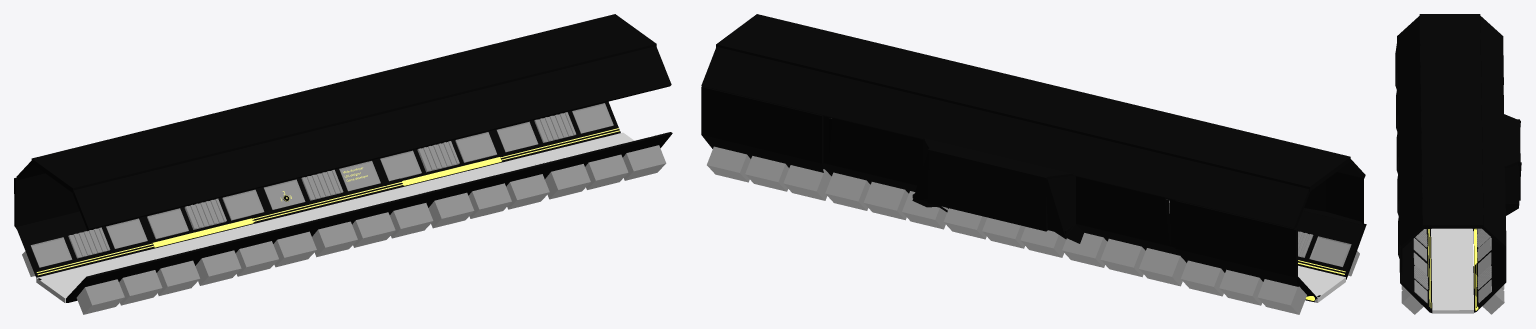
Rendered from Portfolio 2.0 English.glb.
3 views of the same model, side by side, from view 1: azimuth 30°, elevation 25°; view 2: azimuth 150°, elevation 25°; view 3: azimuth 270°, elevation 25° (orthographic). The views are drawn at different scales.
Visible parts, largest first — view 1: Cube.016, Cube, Cube.001, Cube.050, Cube.061, Cube.053, Cube.015, Cube.030, Cube.038, Cube.002, Cube.056, Cube.021 (+15 smaller); view 2: Cube.016, Cube.018, Cube.009, Cube.050, Cube.041, Cube.061, Cube.053, Cube.030, Cube.038, Cube.015, Cube.060, Cube.001 (+16 smaller); view 3: Cube.016, Cube, Cube.053, Cube.061, Cube.038, Cube.030, Cube.015, Cube.001, Cube.041, Cube.043, Cube.009, Cube.018 (+12 smaller).
Boxes of the visible parts, x1,y1,x2,y2 form: Cube.016: [31, 14, 656, 192]; Cube: [36, 132, 634, 302]; Cube.001: [66, 132, 672, 302]; Cube.050: [14, 173, 154, 277]; Cube.061: [16, 161, 205, 230]; Cube.053: [539, 46, 671, 114]; Cube.015: [307, 104, 438, 172]; Cube.030: [190, 132, 321, 201]; Cube.038: [423, 75, 554, 143]; Cube.002: [241, 155, 404, 223]; Cube.056: [22, 237, 124, 314]; Cube.021: [147, 208, 241, 285]; Cube.016: [716, 14, 1350, 191]; Cube.018: [823, 116, 1182, 258]; Cube.009: [912, 137, 1073, 233]; Cube.050: [1175, 200, 1317, 302]; Cube.041: [701, 86, 832, 176]; Cube.061: [1175, 159, 1365, 228]; Cube.053: [701, 46, 834, 114]; Cube.030: [1057, 132, 1190, 200]; Cube.038: [820, 75, 952, 140]; Cube.015: [939, 103, 1071, 169]; Cube.060: [1303, 172, 1363, 225]; Cube.001: [829, 118, 1366, 279]; Cube.016: [1419, 14, 1483, 228]; Cube: [1431, 228, 1473, 313]; Cube.053: [1399, 184, 1505, 248]; Cube.061: [1397, 16, 1503, 77]; Cube.038: [1399, 142, 1505, 204]; Cube.030: [1397, 58, 1503, 119]; Cube.015: [1398, 100, 1503, 161]; Cube.001: [1399, 229, 1432, 312]; Cube.041: [1473, 209, 1506, 312]; Cube.043: [1401, 279, 1504, 314]; Cube.009: [1503, 114, 1520, 206]; Cube.018: [1473, 120, 1521, 265].
Size of the model in its own units: 308 by 61.83 by 77.46.
